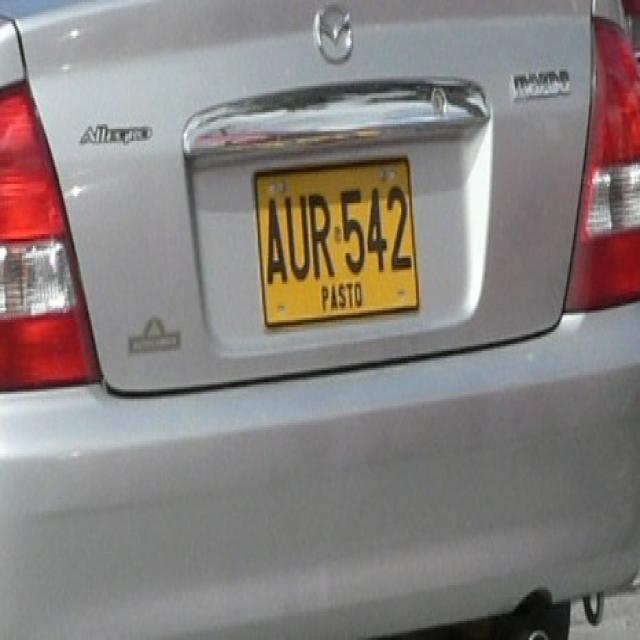placa_carro: (245, 157, 428, 334)
